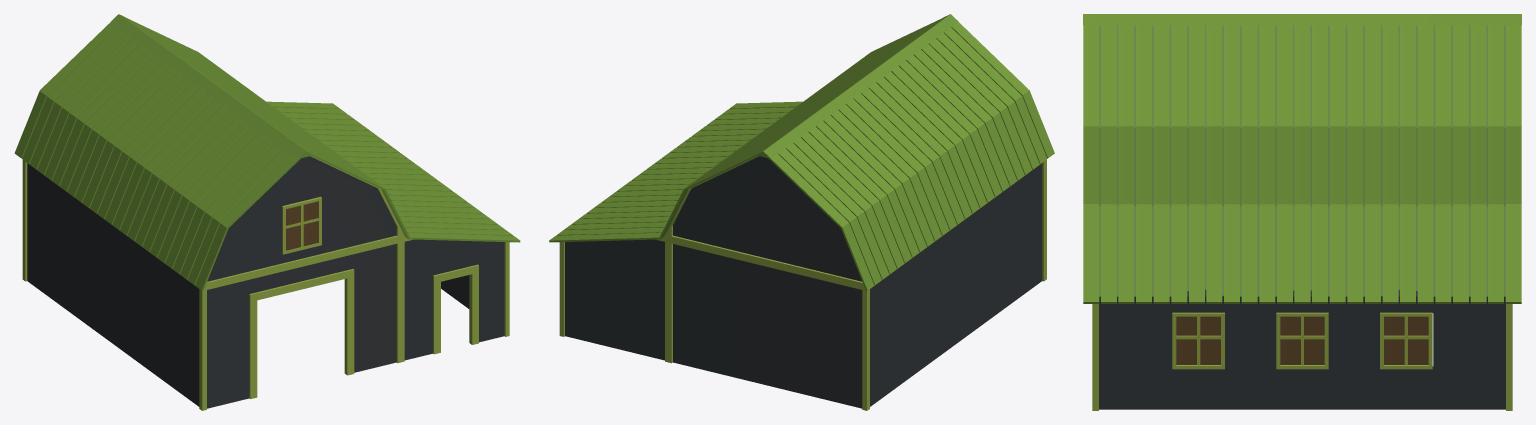
Rendered from Barn_02.fbx.
The picture shows the model from 3 angles, left to right: view 1: azimuth 30°, elevation 25°; view 2: azimuth 150°, elevation 25°; view 3: azimuth 270°, elevation 25°; orthographic projection. The views are drawn at different scales.
Parts seen in each view (by area): view 1: Barn_02; view 2: Barn_02; view 3: Barn_02.
Part boxes in pixels (box(x1,y1,x2,y2)): Barn_02: box(14, 14, 520, 410); Barn_02: box(549, 14, 1054, 410); Barn_02: box(1083, 14, 1521, 410).
Size of the model in its own units: 9.33 by 6.66 by 9.51.
